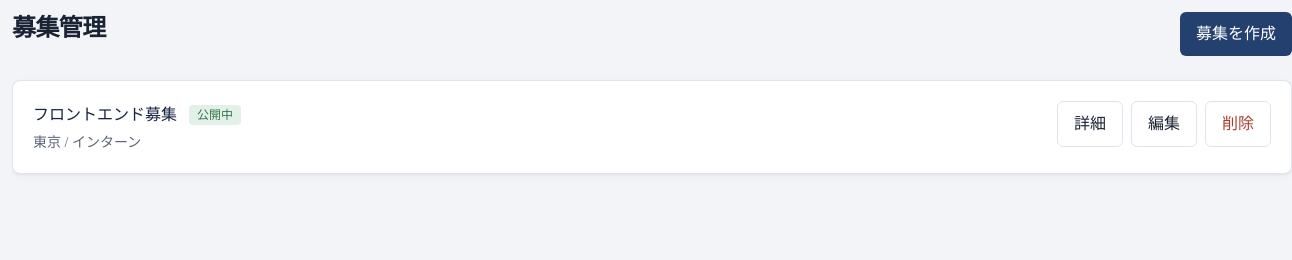
Test case: CompanyJobsPage › 確認すると DELETE を送り行を取り除く
The image size is (1292, 260).
Click the button "削除" at (1238, 124), box [1205, 101, 1271, 147]
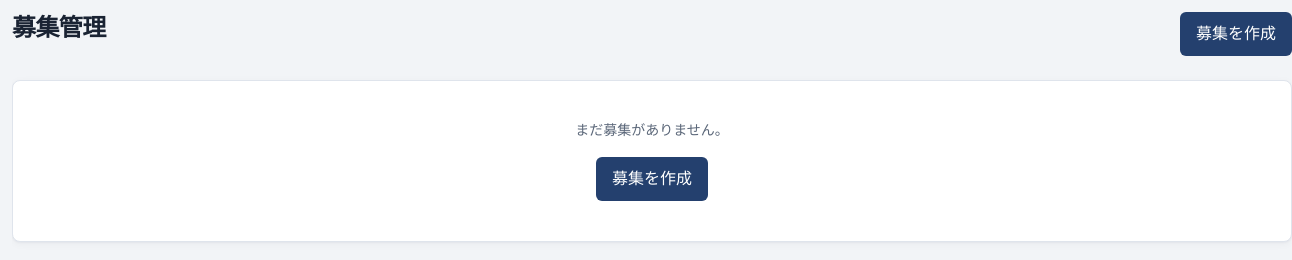
expect the text "フロントエンド募集" is gone: met
